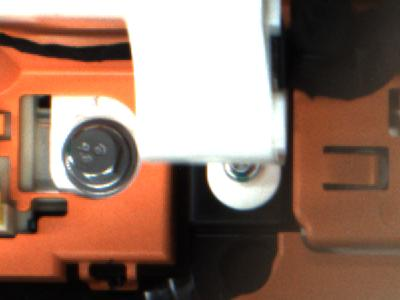nut_b: (54, 127, 132, 192)
